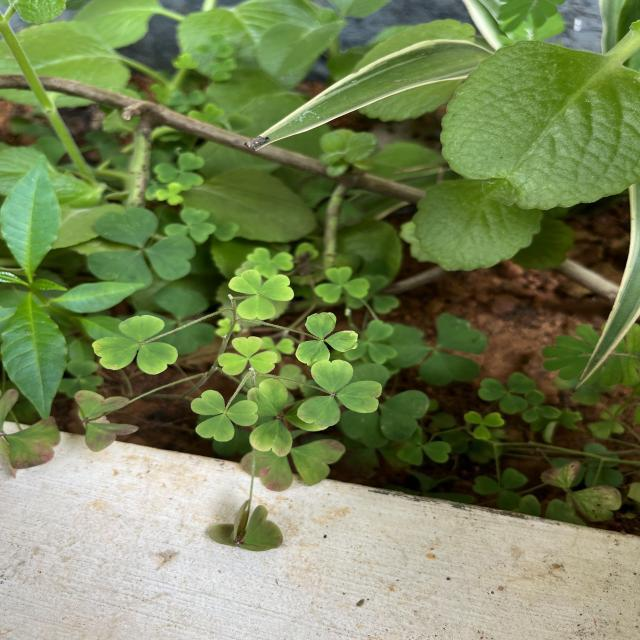Oxalis corniculata: (86, 206, 198, 290), (296, 359, 382, 427), (90, 314, 180, 376), (294, 310, 360, 368), (190, 390, 259, 442), (228, 269, 296, 321), (476, 372, 537, 414), (216, 335, 278, 376), (314, 266, 371, 304), (154, 152, 206, 190), (463, 410, 505, 440)
